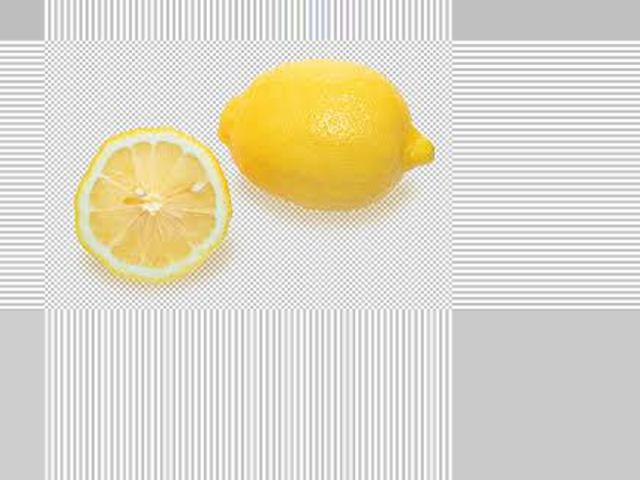lemon: (193, 45, 432, 200)
